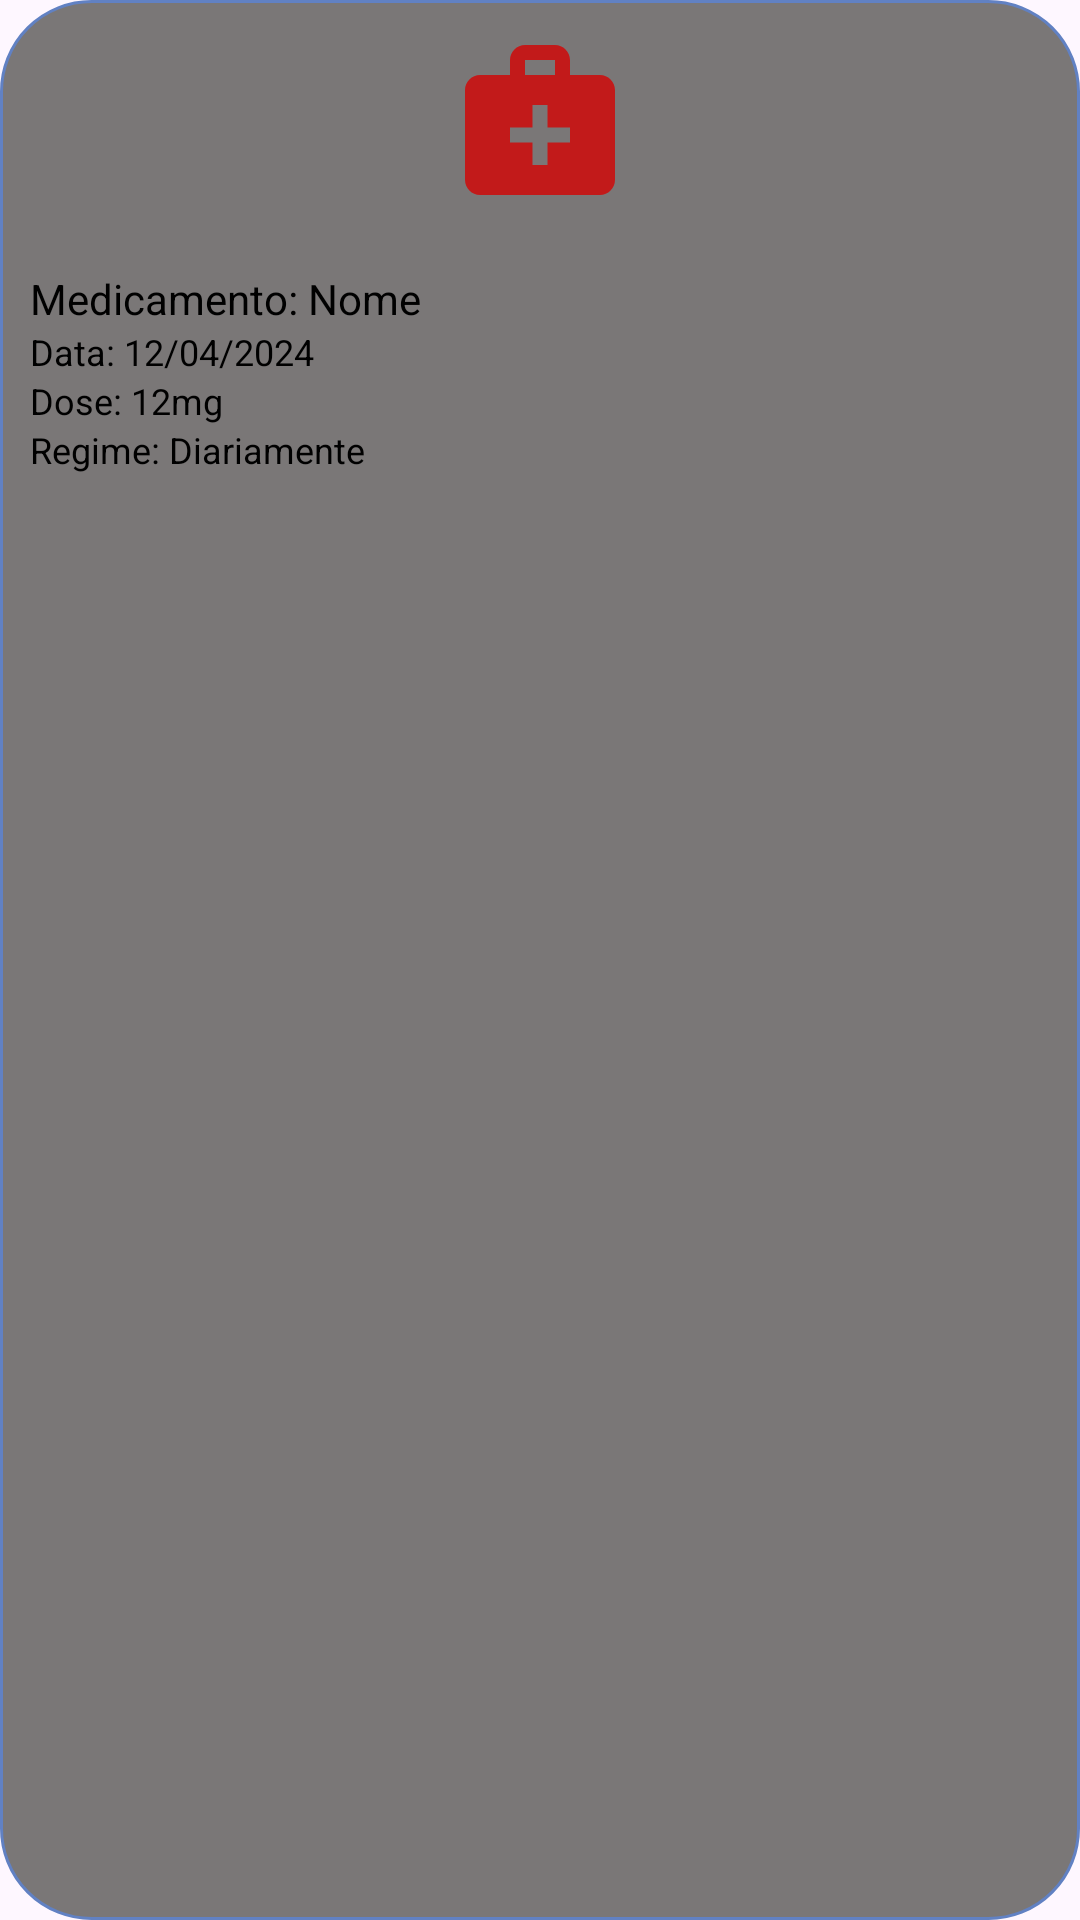

Icon bounding boxes for this 1080x1920 phone screenshot, format (x1, y1, x2, y2):
medical services: (465, 45, 615, 195)
